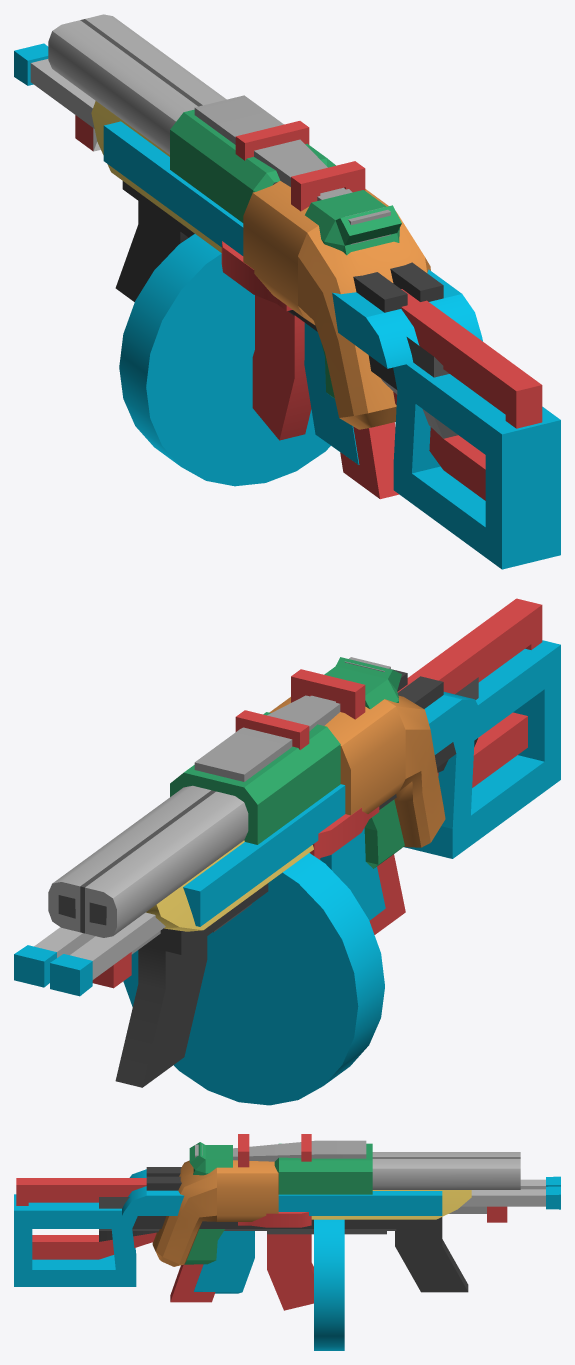
File: Guns (2).fbx
The picture shows the model from 3 angles, top to bottom: view 1: azimuth 30°, elevation 25°; view 2: azimuth 150°, elevation 25°; view 3: azimuth 270°, elevation 25°; orthographic projection. The views are drawn at different scales.
Visible parts, largest first — view 1: Gun4, pDisc1, Gun3, Gun2, pCube3, Gun1, pCube2; view 2: Gun4, pDisc1, pCube3, Gun3, Gun1, Gun2, pCube2; view 3: Gun4, Gun3, Gun2, pCube3, Gun1, pDisc1, pCube2.
Boxes of the visible parts, <box> form: Gun4: <box>14,43,560,569</box>; pDisc1: <box>119,234,330,486</box>; Gun3: <box>75,115,542,500</box>; Gun2: <box>243,181,430,429</box>; pCube3: <box>48,14,226,252</box>; Gun1: <box>170,109,401,398</box>; pCube2: <box>194,95,390,244</box>; Gun4: <box>14,640,560,1087</box>; pDisc1: <box>123,853,384,1105</box>; pCube3: <box>48,785,313,937</box>; Gun3: <box>92,598,542,988</box>; Gun1: <box>170,657,404,868</box>; Gun2: <box>269,695,445,847</box>; pCube2: <box>194,657,390,781</box>; Gun4: <box>14,1167,560,1293</box>; Gun3: <box>16,1134,507,1310</box>; Gun2: <box>152,1160,278,1266</box>; pCube3: <box>311,1152,520,1219</box>; Gun1: <box>184,1142,372,1264</box>; pDisc1: <box>314,1219,344,1350</box>; pCube2: <box>195,1140,366,1161</box>.
Bounding box in the file's own units: 25.62 × 36.47 × 89.94.
